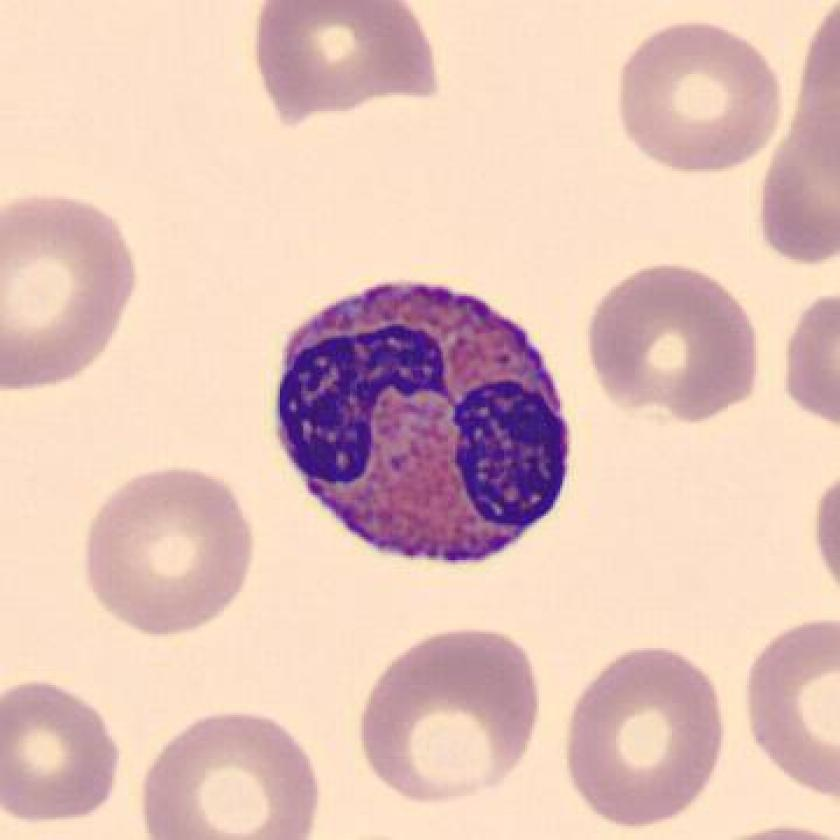eosinophil: (258, 267, 589, 582)
